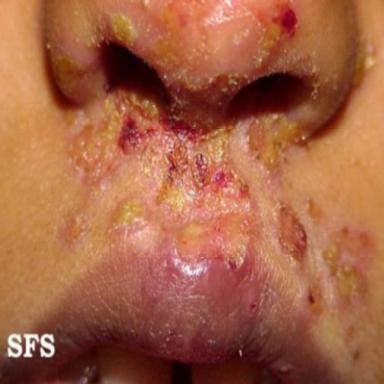Impetigo: (62, 0, 321, 281), (239, 111, 311, 191), (323, 226, 373, 311), (272, 202, 308, 267), (109, 198, 152, 239), (353, 25, 377, 85), (51, 56, 88, 91), (59, 211, 93, 249), (299, 280, 322, 320), (307, 198, 322, 223)
